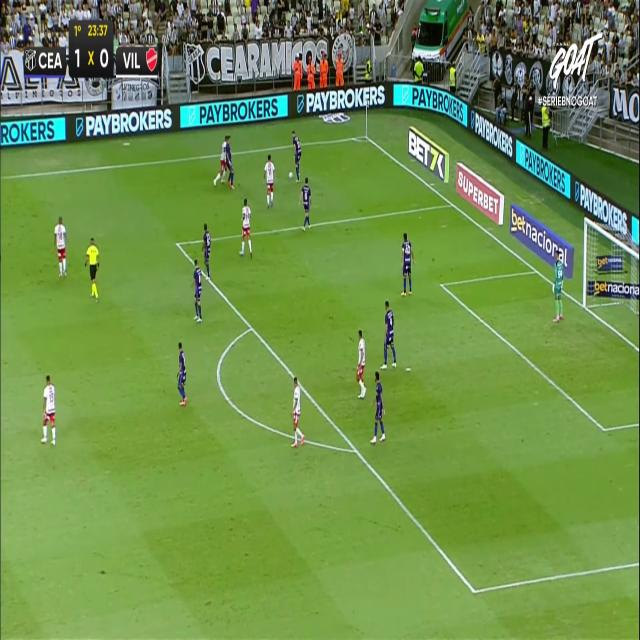ball: (288, 168, 297, 183)
goalkeeper: (552, 253, 564, 321)
player: (370, 370, 386, 443), (213, 134, 234, 189), (40, 374, 56, 445), (382, 300, 397, 369), (291, 375, 304, 446), (53, 215, 68, 276), (400, 231, 414, 295), (239, 197, 252, 256), (192, 259, 203, 322), (225, 133, 237, 190), (356, 329, 366, 396), (299, 177, 311, 231), (176, 341, 186, 405), (264, 153, 275, 208), (291, 131, 301, 182), (202, 223, 211, 278)
referee: (84, 236, 100, 300)
